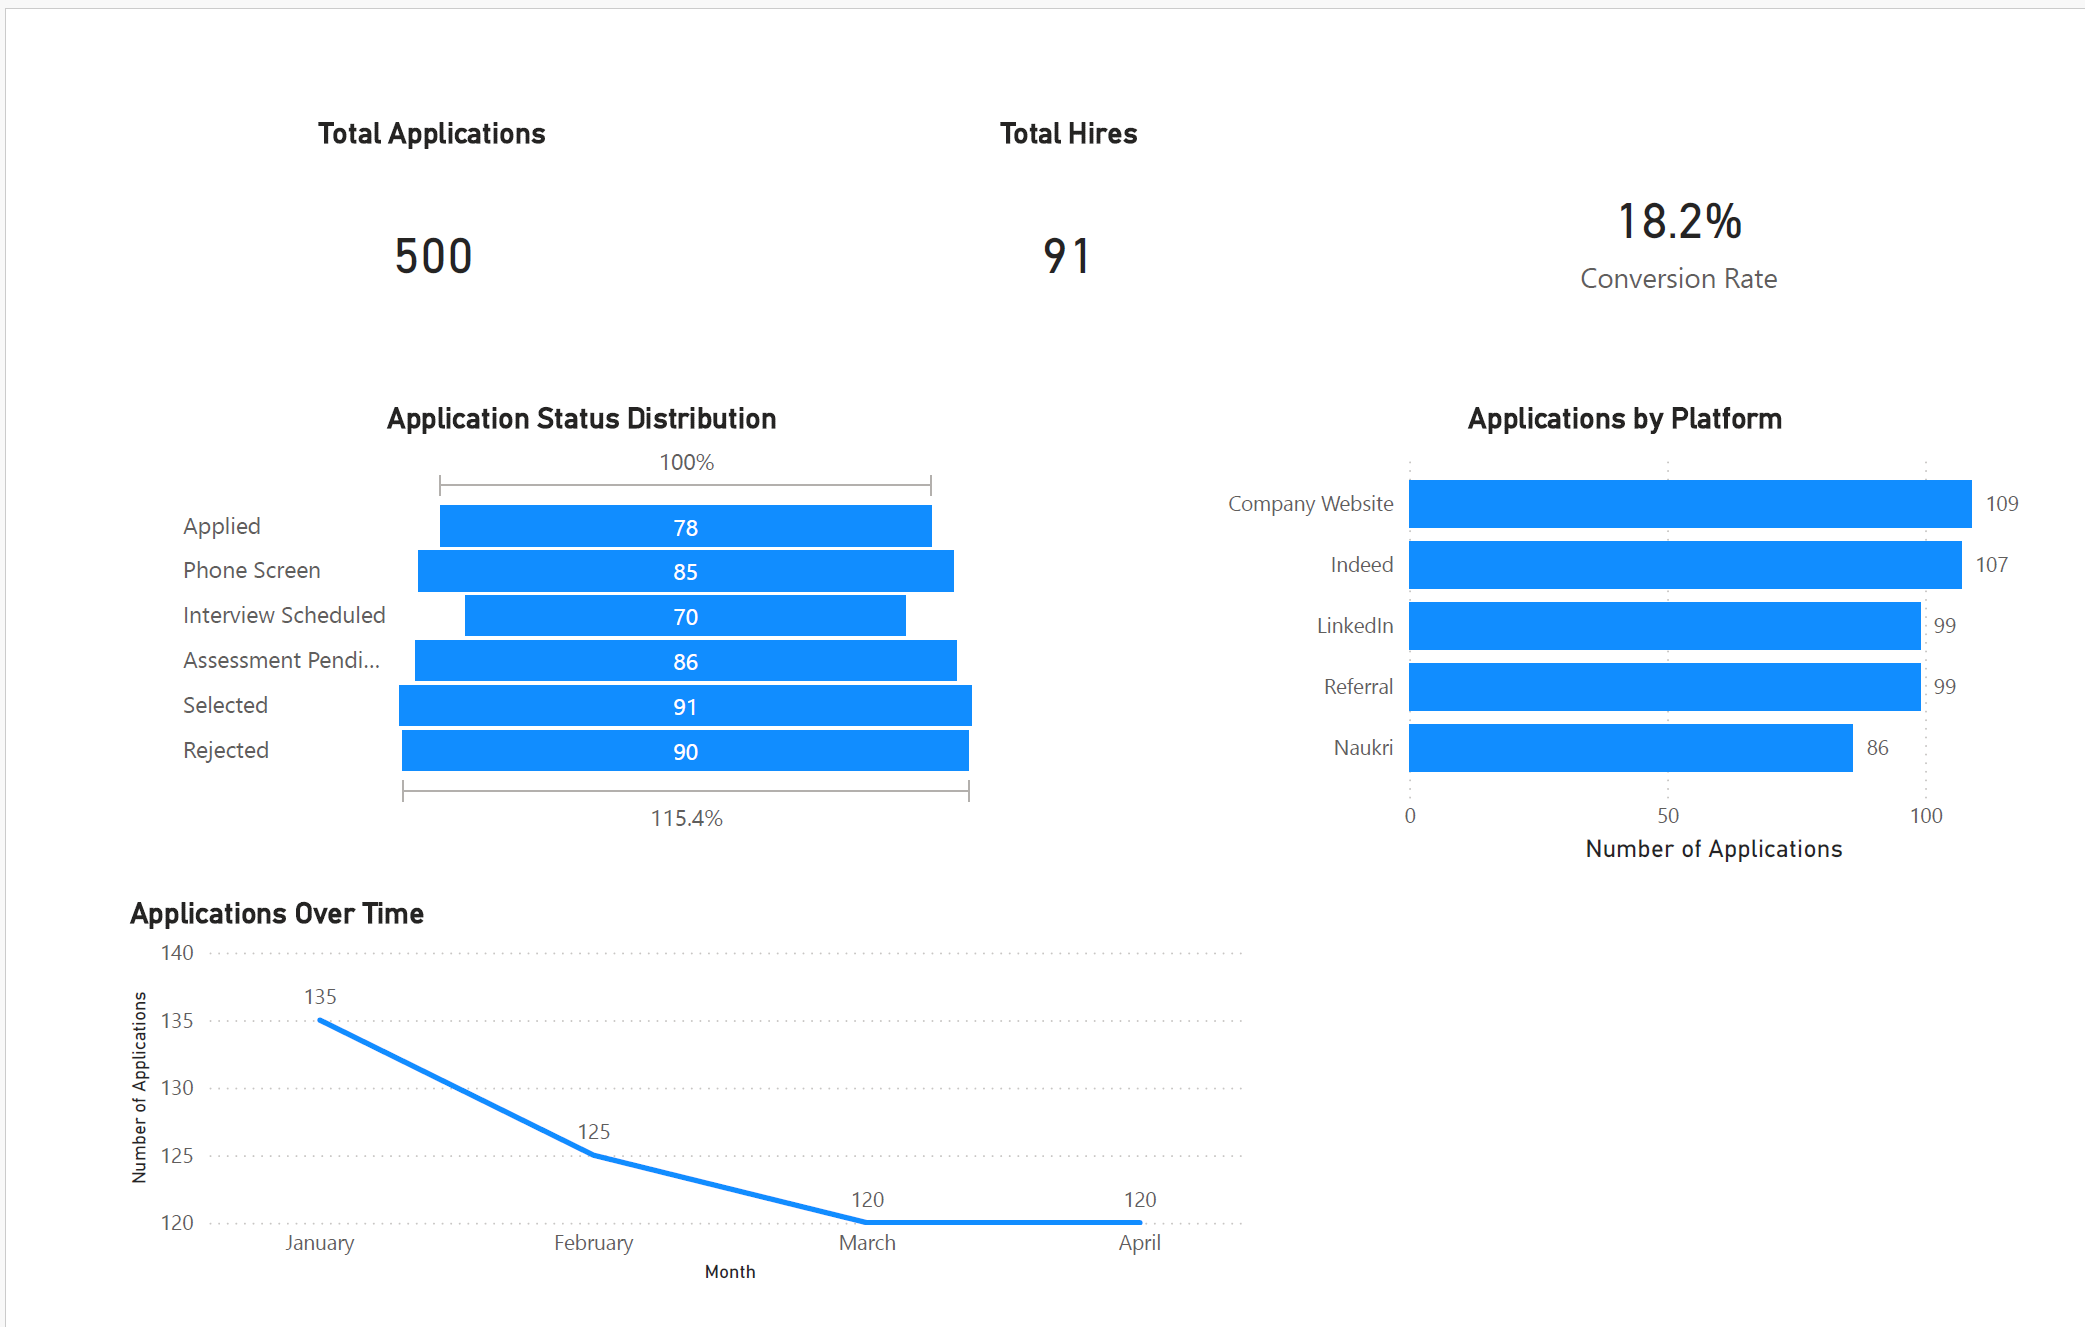

Layout of this report page (visuals, bound fields, positions):
{"tool":"powerbi","page":{"name":"Page 1","canvas":[1280,720],"ordinal":0},"visuals":[{"type":"card","title":"Total Applications","fields":{"Values":["CountNonNull(job_applications_tracker_dataset.status)"]},"box":[136.2,37.8,175.9,140],"z":0},{"type":"funnel","title":"Application Status Distribution","fields":{"Y":["CountNonNull(job_applications_tracker_dataset.status)"],"Category":["job_applications_tracker_dataset.status"]},"box":[73.8,204.3,474.7,257.2],"z":1},{"type":"card","title":"Total Hires","fields":{"Values":["CountNonNull(job_applications_tracker_dataset.status)"]},"box":[533.3,37.8,122.9,140],"z":2},{"type":"card","fields":{"Values":["job_applications_tracker_dataset.Conversion Rate"]},"box":[881.3,37.8,138.1,140],"z":3},{"type":"clusteredBarChart","title":"Applications by Platform","fields":{"Category":["job_applications_tracker_dataset.platform"],"Y":["CountNonNull(job_applications_tracker_dataset.status)"]},"box":[675.2,204.3,487.9,272.3],"z":4},{"type":"lineChart","title":"Applications Over Time","fields":{"Y":["CountNonNull(job_applications_tracker_dataset.status)"],"Category":["job_applications_tracker_dataset.application_date.Variation.Date Hierarchy.Month"]},"box":[74,461,662,229],"z":5}]}

Visuals, with their boxes on the page's 1280x720 design canvas (x1, y1, x2, y2). These are canvas units, not pixel positions in the 2085x1327 screenshot, which may show the page scaled, cropped or inside an application window:
"Total Applications" card: BBox(136, 38, 312, 178)
"Application Status Distribution" funnel: BBox(74, 204, 548, 462)
"Total Hires" card: BBox(533, 38, 656, 178)
card - job_applications_tracker_dataset.Conversion Rate: BBox(881, 38, 1019, 178)
"Applications by Platform" clusteredBarChart: BBox(675, 204, 1163, 477)
"Applications Over Time" lineChart: BBox(74, 461, 736, 690)
